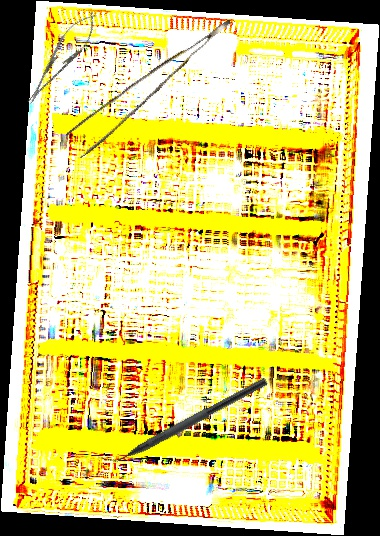Chopper: (95, 365, 270, 476)
Needle Holder: (17, 5, 105, 112)
Tissue Forceps: (59, 19, 250, 159)
